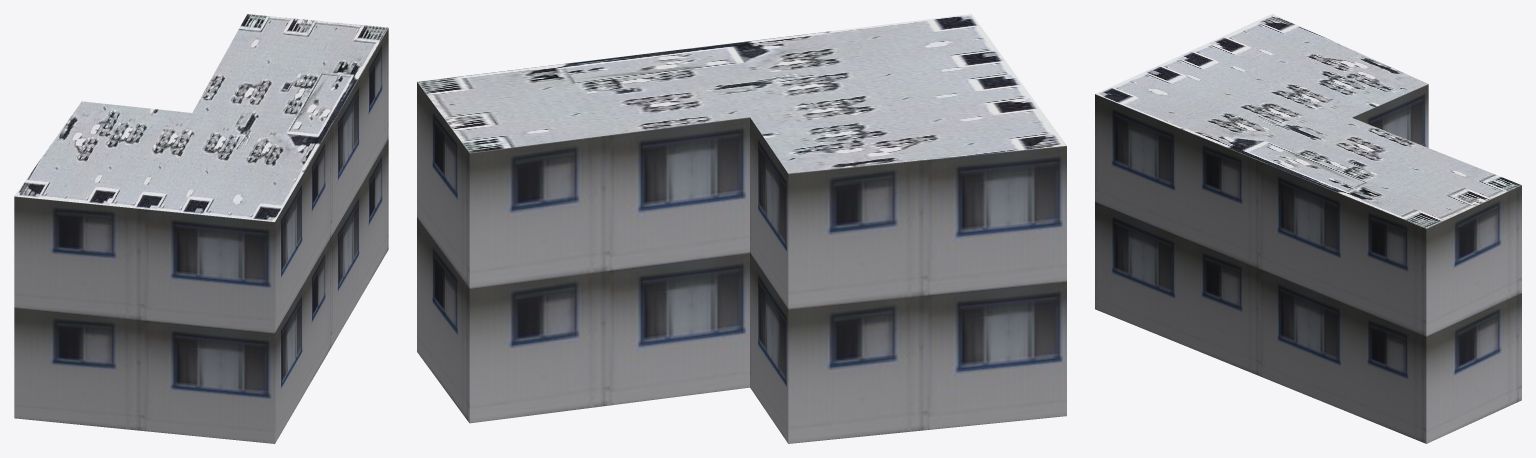
File: ResTex__4943.fbx
3 renders of one model, left to right at view 1: azimuth 30°, elevation 25°; view 2: azimuth 150°, elevation 25°; view 3: azimuth 270°, elevation 25°, orthographic. The views are drawn at different scales.
Visible parts, largest first — view 1: CityEngineMaterial_9_m, CityEngineMaterial_m; view 2: CityEngineMaterial_9_m, CityEngineMaterial_m; view 3: CityEngineMaterial_9_m, CityEngineMaterial_m.
Boxes of the visible parts, x1,y1,x2,y2 form: CityEngineMaterial_9_m: [14, 28, 388, 443]; CityEngineMaterial_m: [14, 14, 388, 221]; CityEngineMaterial_9_m: [417, 82, 1066, 443]; CityEngineMaterial_m: [417, 14, 1066, 173]; CityEngineMaterial_9_m: [1095, 84, 1521, 443]; CityEngineMaterial_m: [1095, 14, 1521, 228].
Bounding box in the file's own units: 12.84 × 6 × 10.79.
2 materials, 2 textured.
